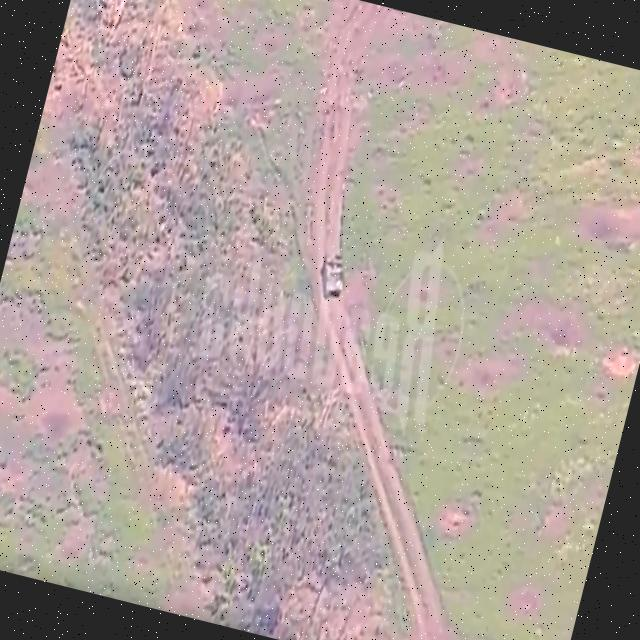APC: (313, 245, 354, 303)
